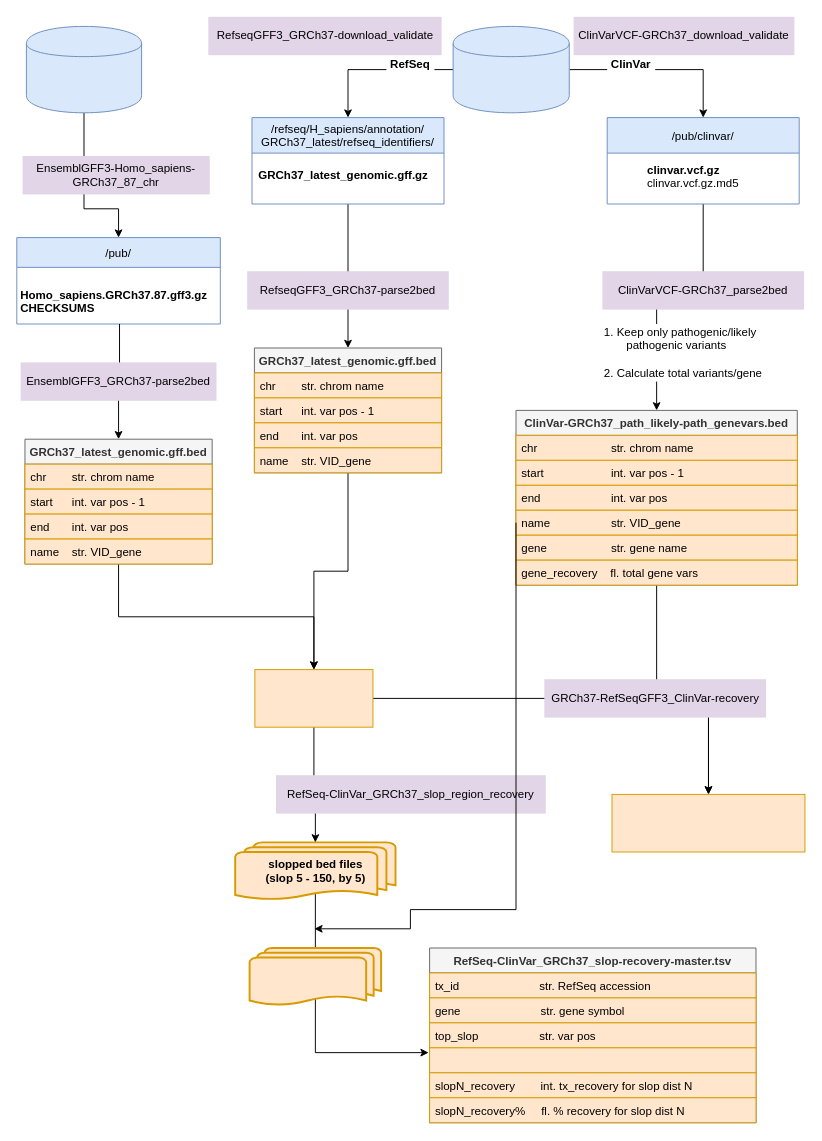
The diagram is 822 pixels wide and 1141 high, and some of its shapes have lost their labels. The shapes that lost their labels are listed below. From the top down, each one's centre as x and y in pixels, then its label:
At pixel 83 69: "Ensembl FTP ftp.ensembl.org".
At pixel 510 69: "NCBI FTP ftp.ncbi.nlm.nih.gov".
At pixel 313 698: "Validated RefSeq exonic bed".
At pixel 708 822: "RefSeq-ClinVar_GRCh37_Recovery_Full.tsv".
At pixel 315 976: "intersected slop bed files".
At pixel 592 1060: "gene_recovery fl. total clinvar recovery/gene".
